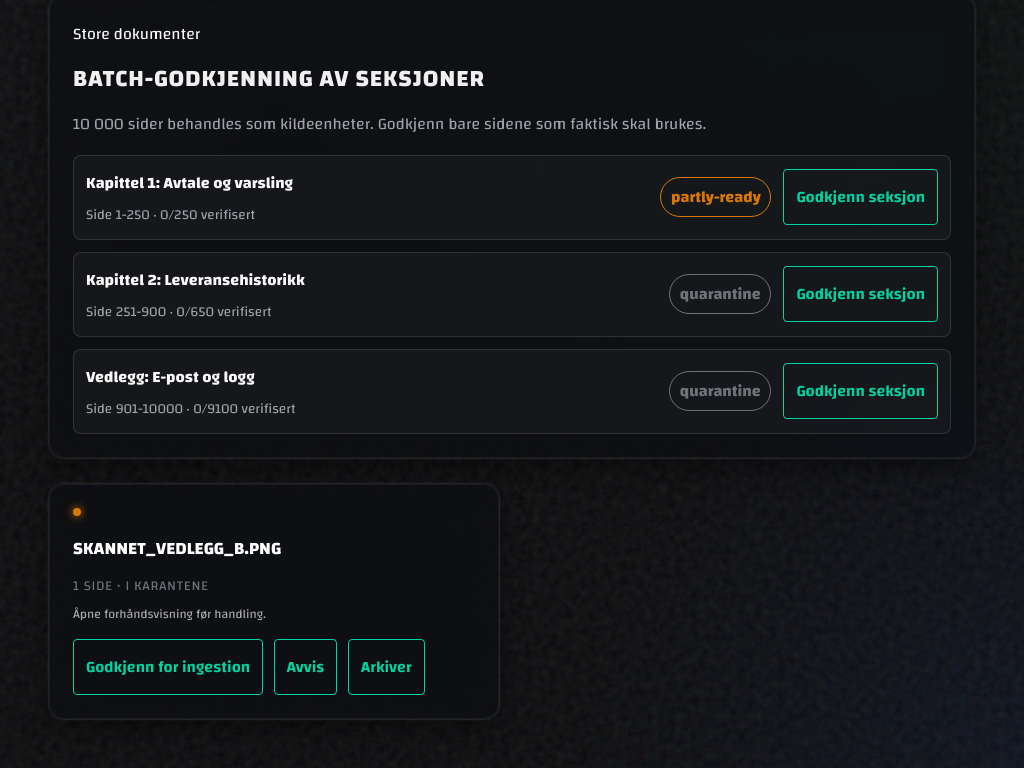
it: QuarantineGate › opens an accessible preview and runs the same approve action from the modal
The width and height of the screenshot is (1024, 768).
(page scrolled)
Expected: the heading "Skannet_Vedlegg_B.png" is shown, [73,532,281,565]
Click the button with aria-label "Åpne kontrollpreview for Skannet_Vedlegg_B.png" at (177, 548), box [73,532,475,623]
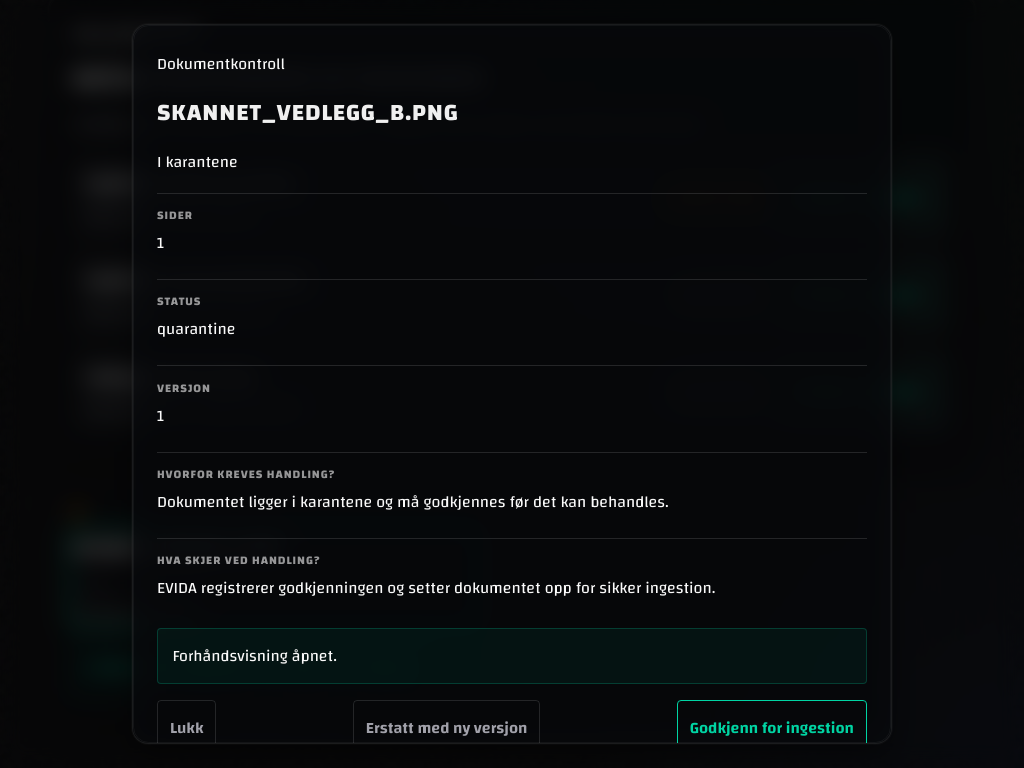
Now the text "Hva skjer ved handling?" is shown, box [157,550,320,572]
Now the text "Forhåndsvisning åpnet." is shown, box [157,628,867,684]
Click the button "Godkjenn for ingestion" at (772, 728), box [677,700,867,756]
(page scrolled)
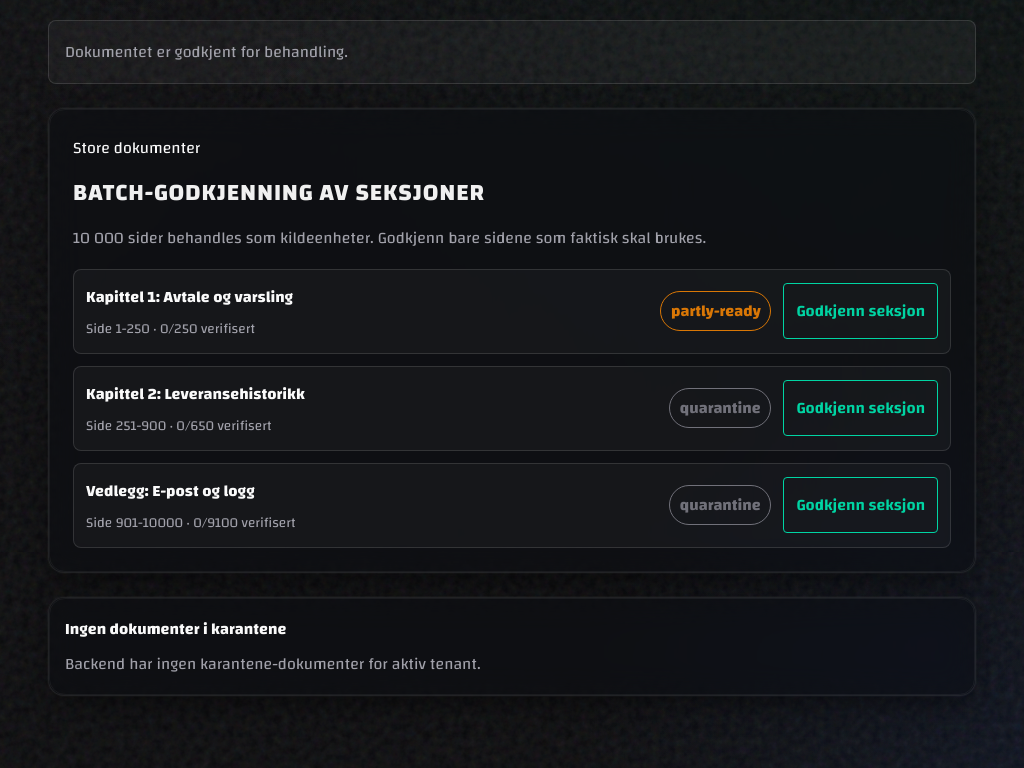
Now the dialog is gone
